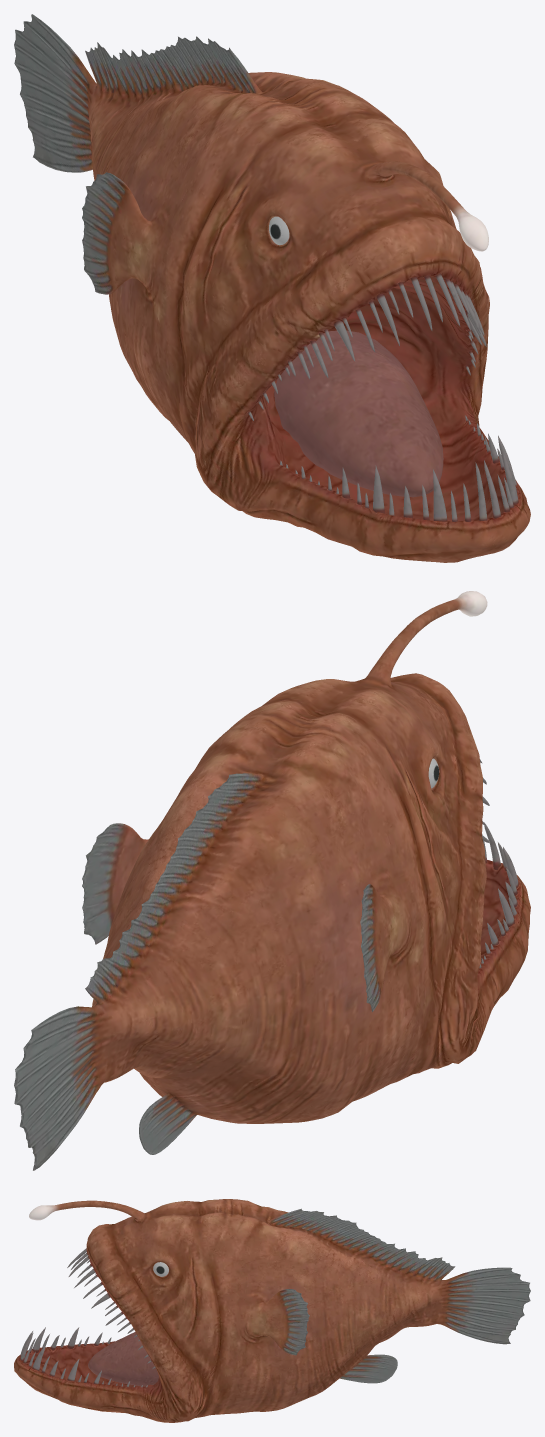
File: angler.glb
3 renders of one model, top to bottom at view 1: azimuth 30°, elevation 25°; view 2: azimuth 150°, elevation 25°; view 3: azimuth 270°, elevation 25°, orthographic. The views are drawn at different scales.
Parts seen in each view (by area): view 1: angler_fish.2; view 2: angler_fish.2; view 3: angler_fish.2.
Boxes of the visible parts, box(x1,y1,x2,y2) form: angler_fish.2: box(14, 14, 530, 562); angler_fish.2: box(14, 591, 530, 1170); angler_fish.2: box(14, 1199, 530, 1422).
Size of the model in its own units: 0.1248 by 0.1588 by 0.3688.
Materials: 1 (1 with a texture image).
